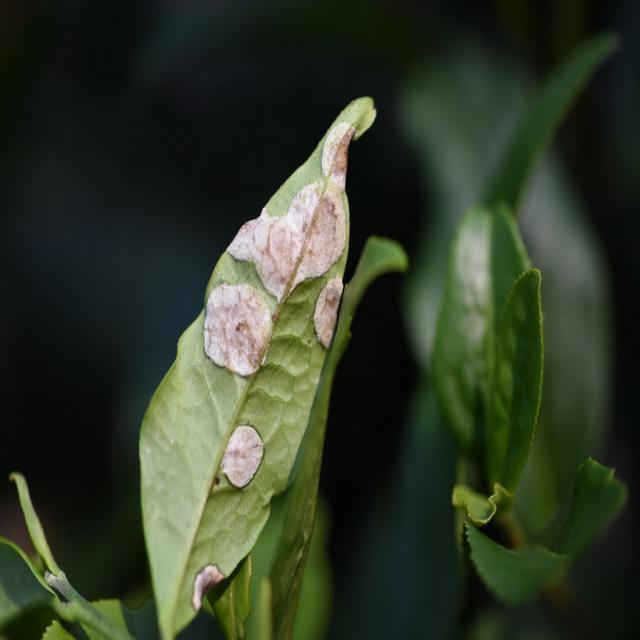Tea cake: (227, 181, 345, 272), (205, 278, 275, 390), (218, 423, 269, 484), (189, 559, 237, 614), (316, 275, 346, 358), (325, 117, 358, 179)
